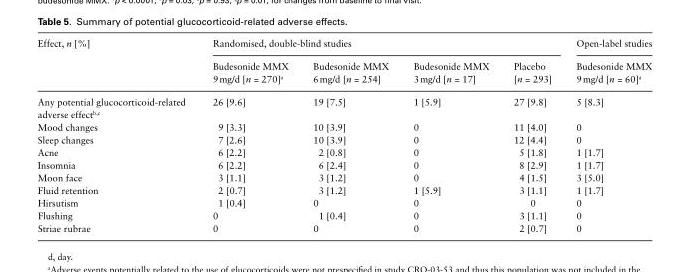table: (36, 36, 651, 233)
table column: (36, 36, 198, 233), (198, 36, 300, 233), (300, 36, 400, 233), (400, 36, 500, 233), (563, 36, 651, 233), (500, 36, 563, 233)
table column header: (36, 36, 651, 89)
table row: (36, 53, 651, 89), (36, 89, 651, 120), (36, 36, 651, 53), (36, 132, 651, 145), (36, 157, 651, 170), (36, 170, 651, 183), (36, 195, 651, 208), (36, 208, 651, 221), (36, 120, 651, 132), (36, 145, 651, 157), (36, 183, 651, 195), (36, 221, 651, 233)
table spanning cell: (36, 36, 198, 89), (198, 36, 563, 53), (563, 36, 651, 89)
